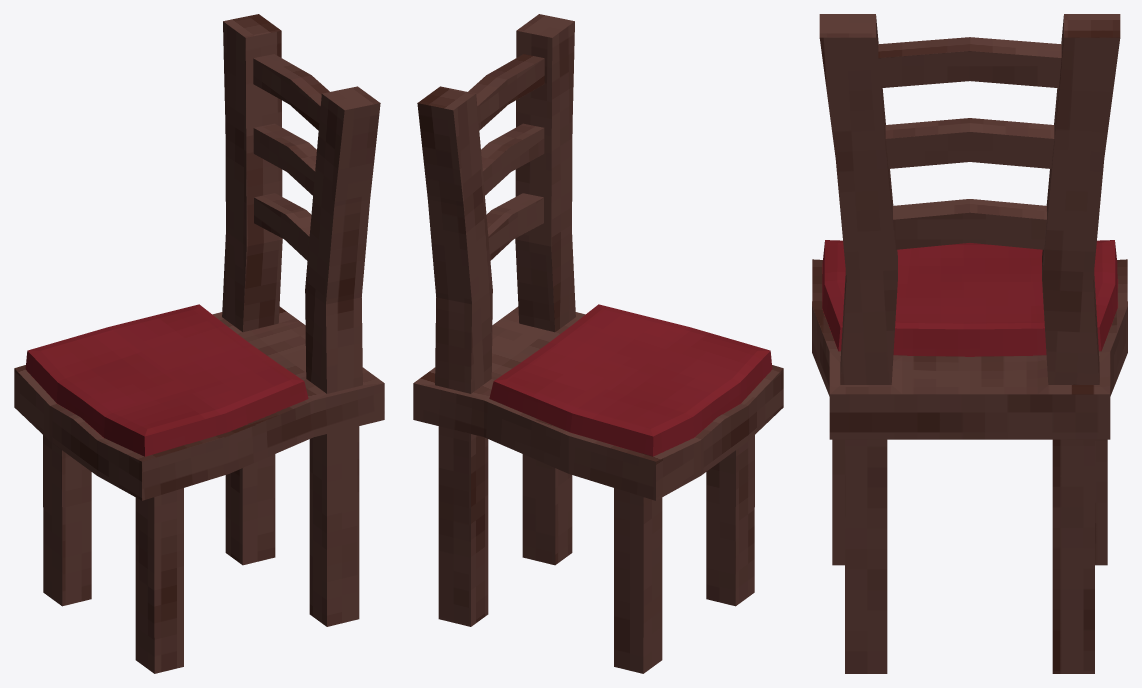
Rendered from wooden_chair.fbx.
3 renders of one model, left to right at view 1: azimuth 30°, elevation 25°; view 2: azimuth 150°, elevation 25°; view 3: azimuth 270°, elevation 25°, orthographic. The views are drawn at different scales.
Parts seen in each view (by area): view 1: chair; view 2: chair; view 3: chair.
Boxes of the visible parts, box(x1,y1,x2,y2) form: chair: box(14, 14, 384, 673); chair: box(413, 14, 783, 673); chair: box(812, 14, 1127, 673).
Size of the model in its own units: 128 by 250 by 111.
Materials: 1 (1 with a texture image).
